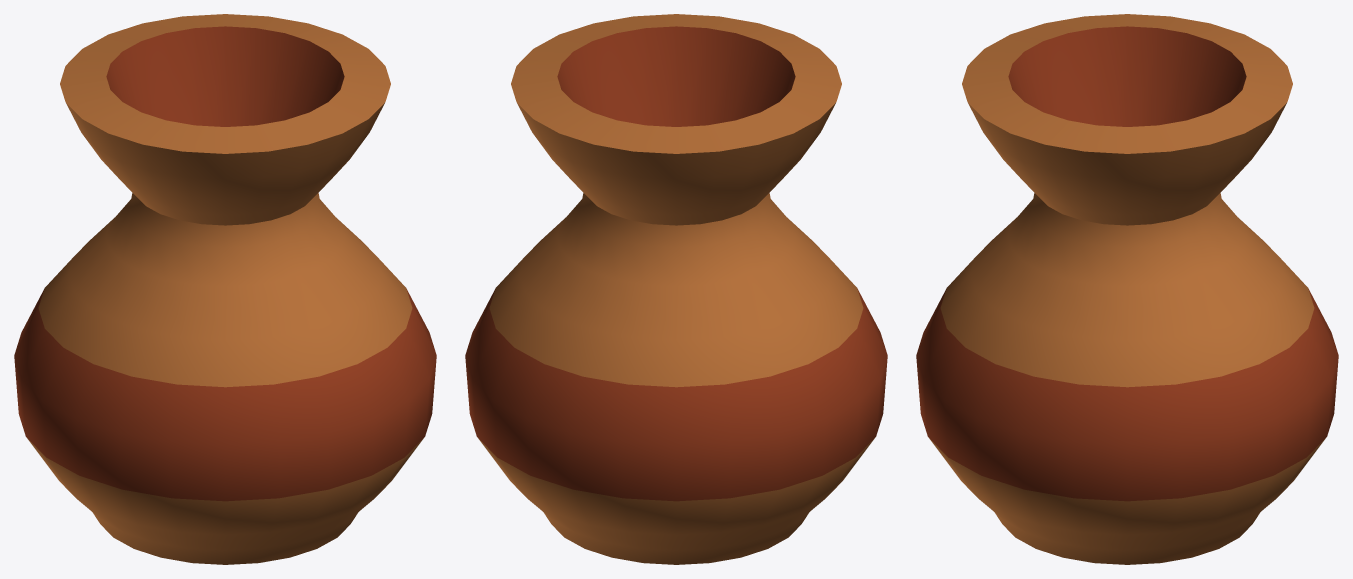
Rendered from potB_decorated.obj.
3 views of the same model, side by side, from view 1: azimuth 30°, elevation 25°; view 2: azimuth 150°, elevation 25°; view 3: azimuth 270°, elevation 25° (orthographic).
Visible parts, largest first — view 1: potB_decorated_Cylinder.005; view 2: potB_decorated_Cylinder.005; view 3: potB_decorated_Cylinder.005.
Part boxes in pixels (x1=…): potB_decorated_Cylinder.005: x1=14, y1=14, x2=436, y2=564; potB_decorated_Cylinder.005: x1=465, y1=14, x2=887, y2=564; potB_decorated_Cylinder.005: x1=916, y1=14, x2=1338, y2=564.
Bounding box in the file's own units: 0.8406 × 0.9517 × 0.8406.
